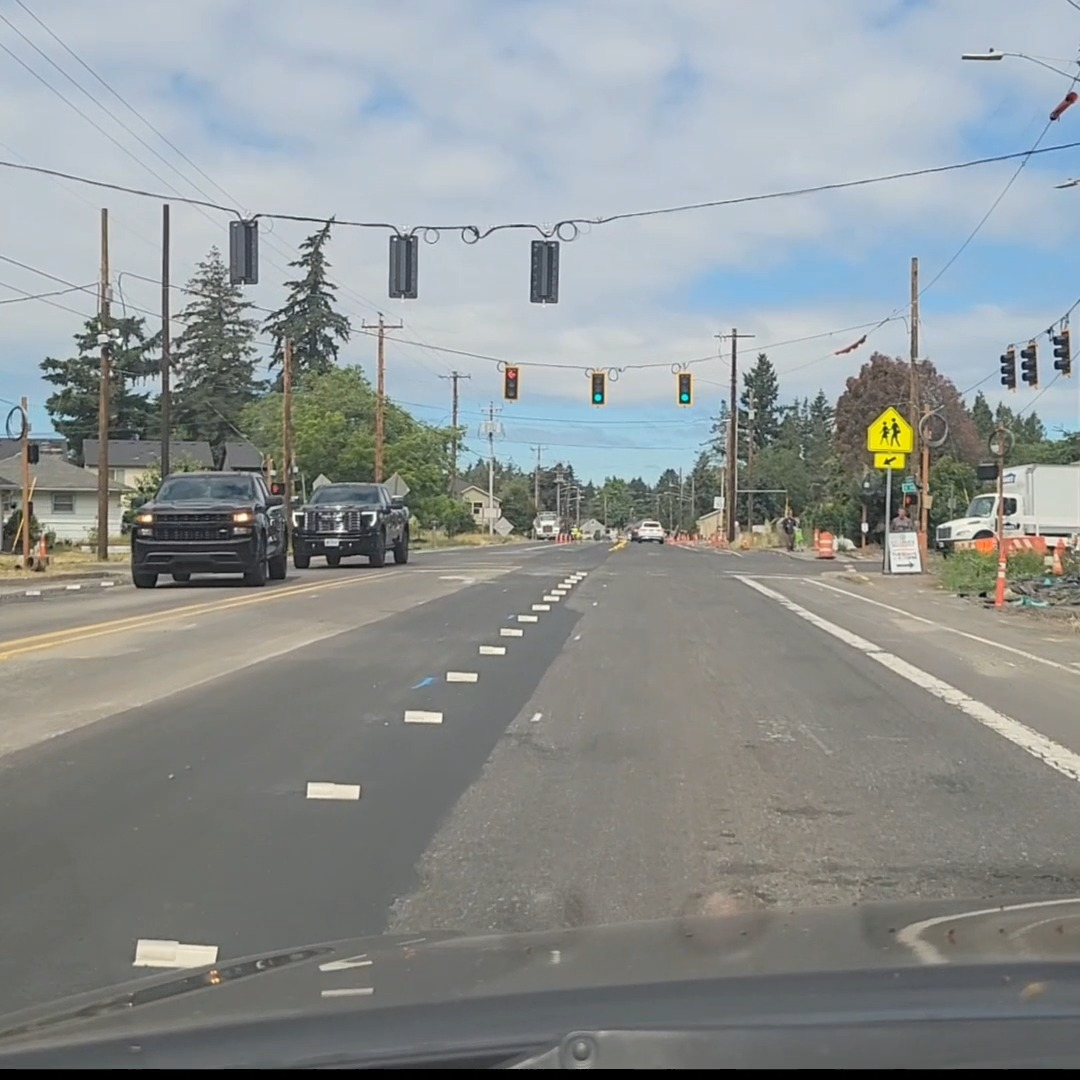car: (126, 471, 292, 587), (289, 482, 411, 569), (630, 520, 666, 544)
crosswalk-sign: (867, 406, 913, 453)
delineator: (994, 555, 1006, 607), (1052, 537, 1065, 575)
